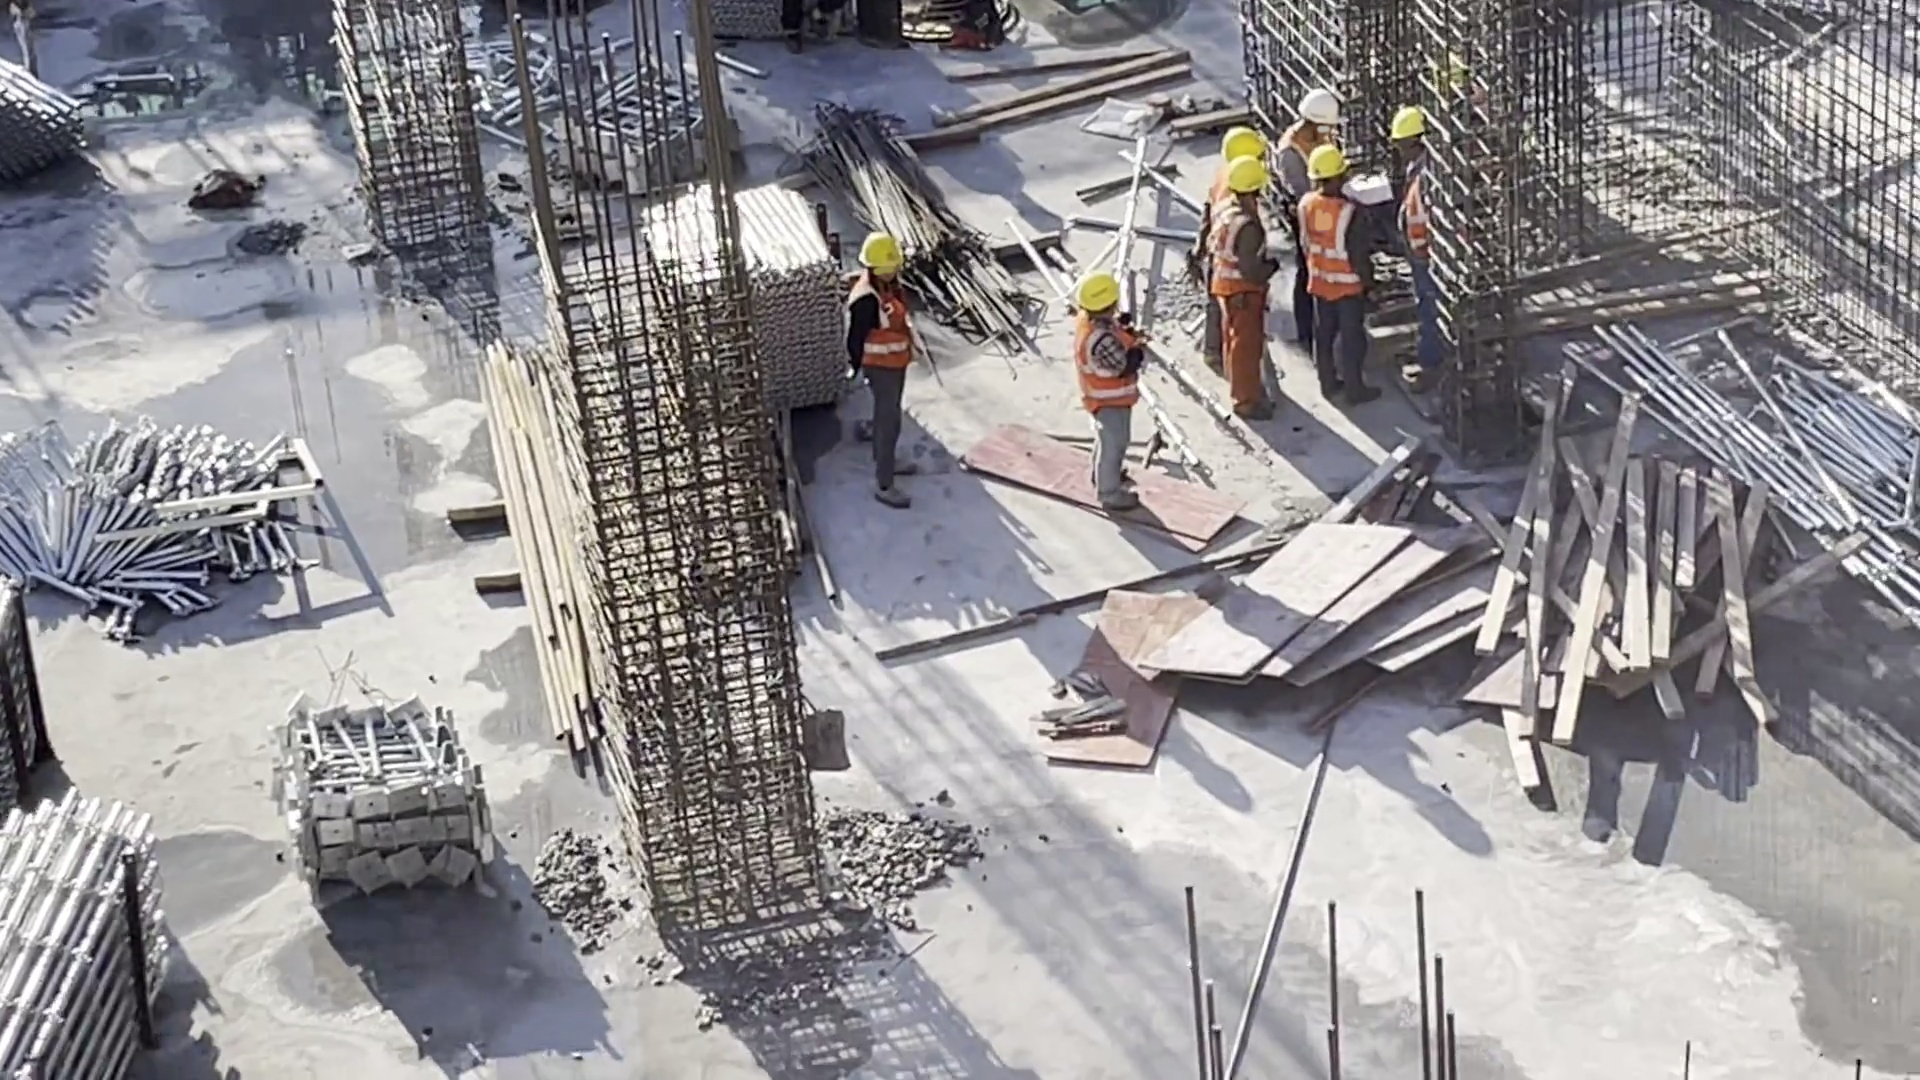board: (1206, 530, 1492, 704)
helmet: (851, 238, 909, 271), (1085, 280, 1128, 310), (1303, 95, 1338, 126), (1311, 154, 1346, 184), (1386, 118, 1427, 144), (1232, 158, 1259, 195), (1227, 123, 1254, 150)
person: (845, 231, 932, 513), (1286, 152, 1372, 417), (1211, 153, 1292, 428), (1071, 275, 1161, 514), (1275, 85, 1349, 350), (1389, 107, 1460, 375), (1210, 122, 1266, 376)
rebar: (820, 124, 1010, 323)
scaffold: (4, 433, 315, 620), (1683, 358, 1920, 591), (1, 829, 184, 1070), (690, 215, 842, 449), (1, 93, 95, 177), (712, 1, 809, 37)
vest: (1301, 200, 1359, 315), (1077, 330, 1142, 410), (853, 287, 912, 371), (1215, 223, 1255, 306), (1407, 177, 1443, 250)
wood: (1529, 457, 1773, 711)
